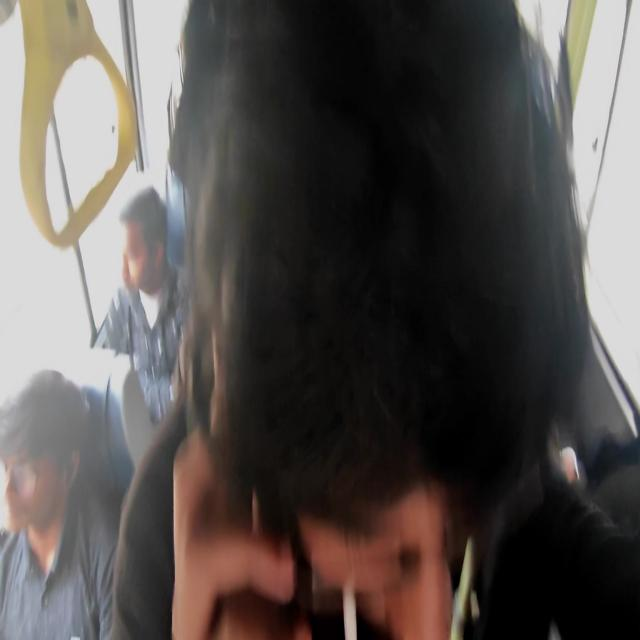person: (218, 25, 510, 640), (0, 397, 86, 553), (116, 206, 174, 298)
